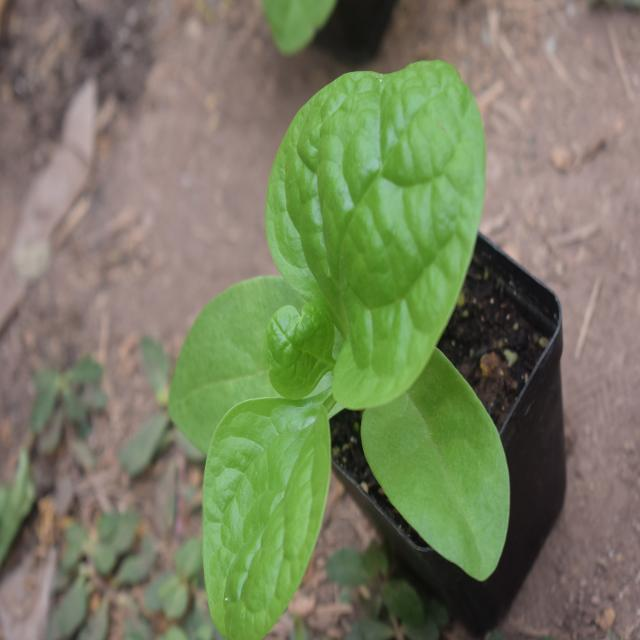Ceylon spinach: (178, 66, 512, 595)
